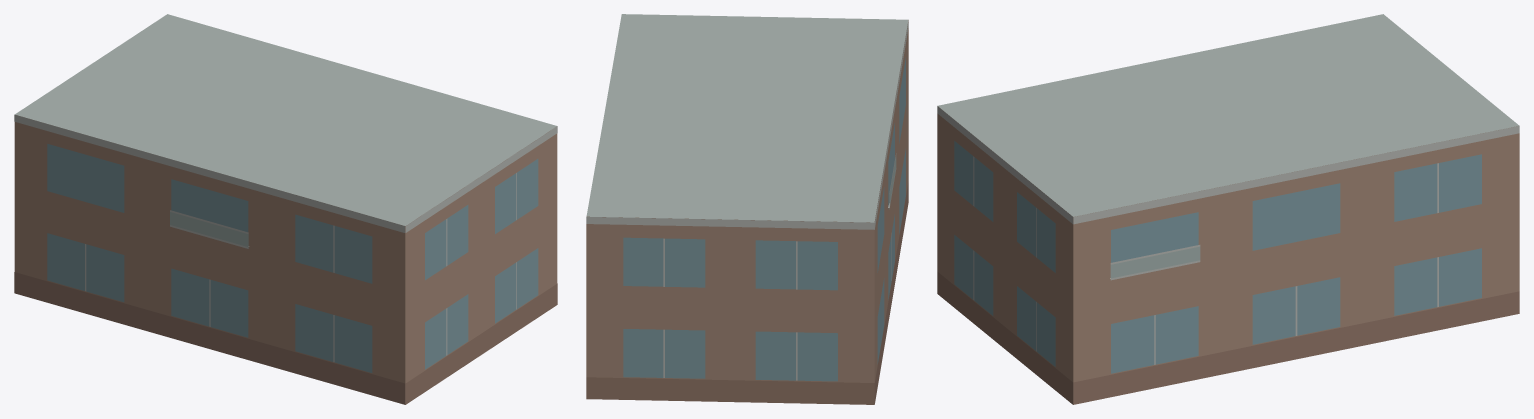
File: survey-upis-32704785.glb
The picture shows the model from 3 angles, left to right: view 1: azimuth 30°, elevation 25°; view 2: azimuth 150°, elevation 25°; view 3: azimuth 270°, elevation 25°; orthographic projection. The views are drawn at different scales.
Visible parts, largest first — view 1: survey-upis-32704785.tmp; view 2: survey-upis-32704785.tmp; view 3: survey-upis-32704785.tmp.
Boxes of the visible parts, x1,y1,x2,y2 form: survey-upis-32704785.tmp: (14,14,557,404); survey-upis-32704785.tmp: (586,14,908,404); survey-upis-32704785.tmp: (937,14,1519,404).
Bounding box in the file's own units: 14.13 × 6.1 × 17.13.
